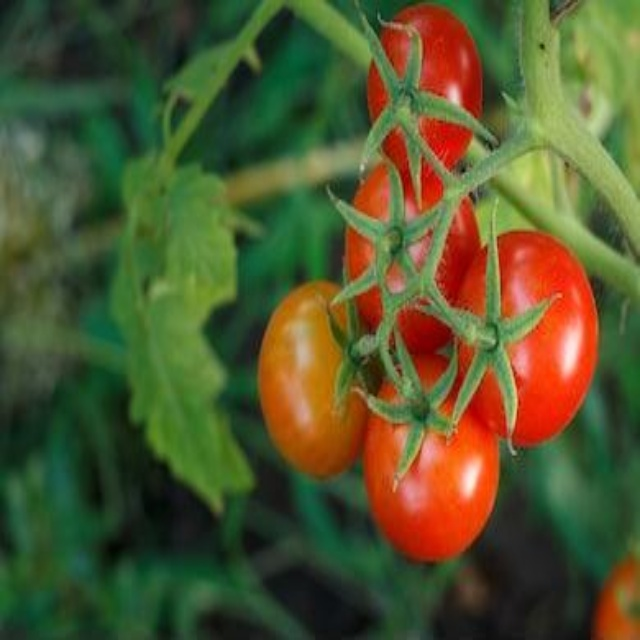tomato: (337, 157, 479, 369), (454, 235, 595, 443), (360, 353, 495, 560), (246, 271, 372, 479), (359, 13, 491, 174)
